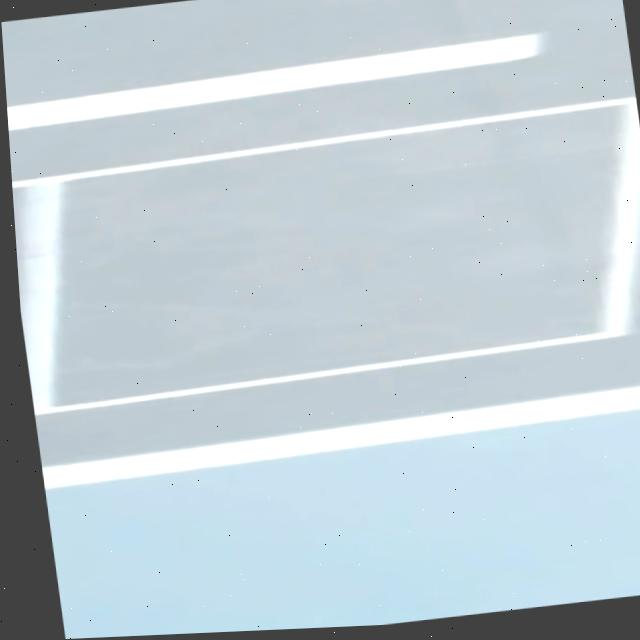center: (7, 35, 540, 130)
left: (41, 387, 640, 489)
